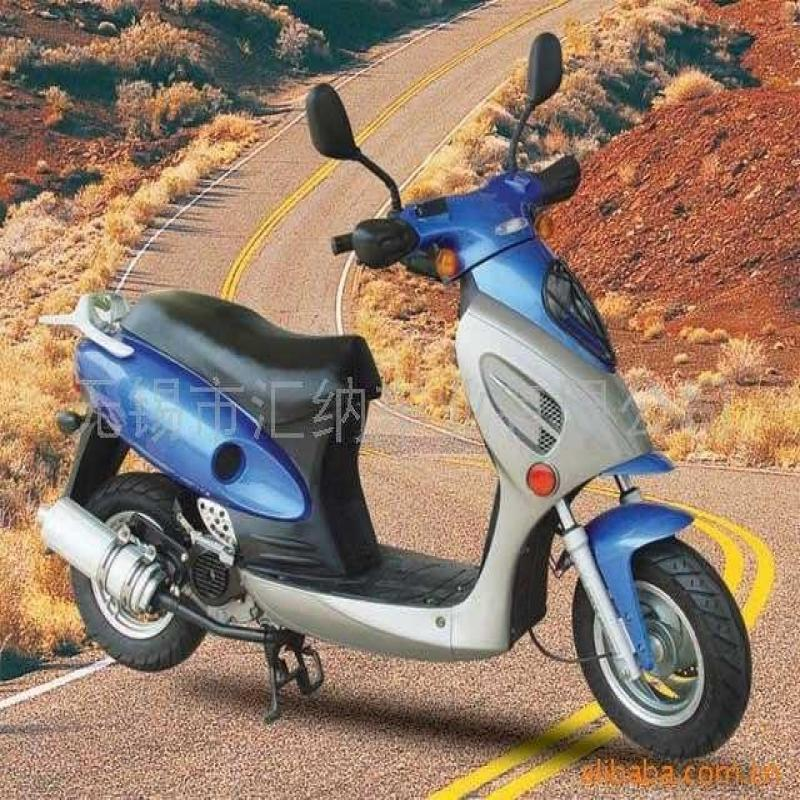bike: (60, 42, 756, 753)
